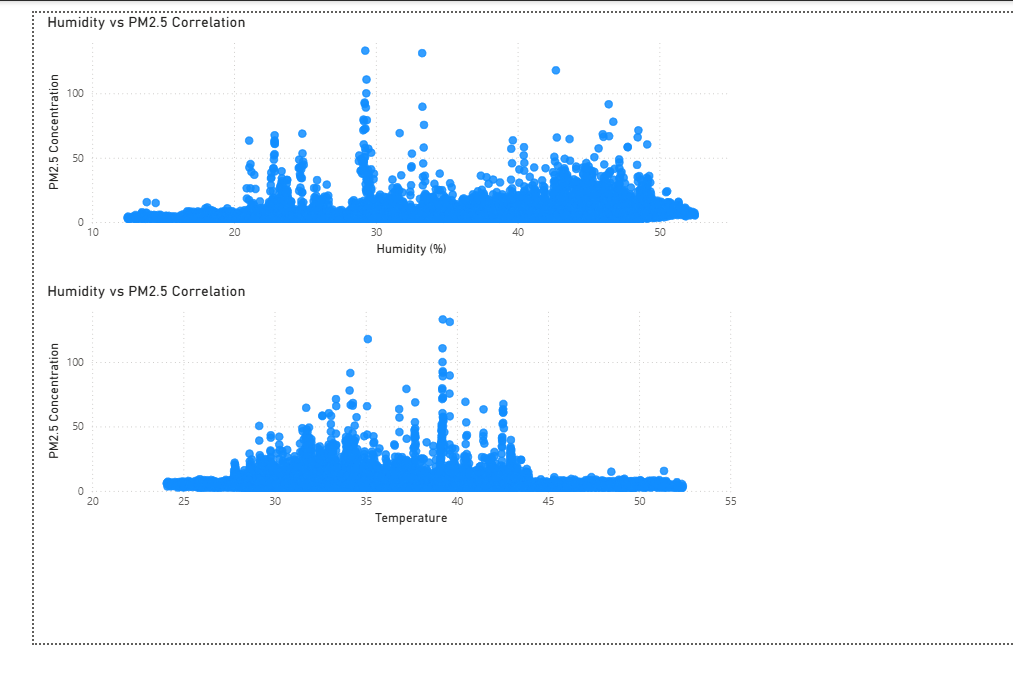

What the dashboard file says about the page in this screenshot:
{"tool":"powerbi","page":{"name":"Environmental Correlation","canvas":[1280,720],"ordinal":3},"visuals":[{"type":"scatterChart","title":"Humidity vs PM2.5 Correlation","fields":{"X":["Avg(MongoSensorReadings.measurements.humidity)"],"Y":["Avg(MongoSensorReadings.measurements.pm25)"],"Category":["MongoSensorReadings._id"]},"box":[10,0,798,283],"z":0},{"type":"scatterChart","title":"Humidity vs PM2.5 Correlation","fields":{"Y":["Avg(MongoSensorReadings.measurements.pm25)"],"Category":["MongoSensorReadings._id"],"X":["Avg(MongoSensorReadings.measurements.temperature)"]},"box":[10,307,798,283],"z":1}]}

Visuals, with their boxes on the page's 1280x720 design canvas (x1, y1, x2, y2). These are canvas units, not pixel positions in the 1013x677 screenshot, which may show the page scaled, cropped or inside an application window:
"Humidity vs PM2.5 Correlation" scatterChart: 10,0,808,283
"Humidity vs PM2.5 Correlation" scatterChart: 10,307,808,590
